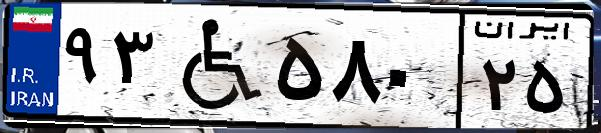0: (385, 28, 445, 110)
2: (475, 38, 525, 113)
3: (110, 28, 158, 98)
5: (270, 28, 330, 110), (525, 38, 570, 115)
8: (330, 28, 385, 110)
9: (57, 26, 110, 100)
ژ (معلولین و جانبازان): (158, 12, 270, 120)
